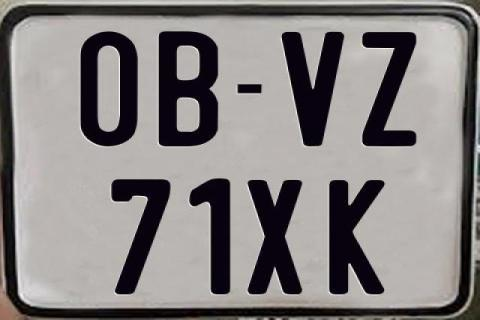0: (110, 179, 174, 297), (79, 29, 140, 148), (189, 179, 234, 297)
B: (156, 32, 218, 152)
K: (329, 178, 391, 294)
V: (280, 32, 348, 146)
X: (246, 180, 303, 298)
Z: (360, 31, 416, 148)
